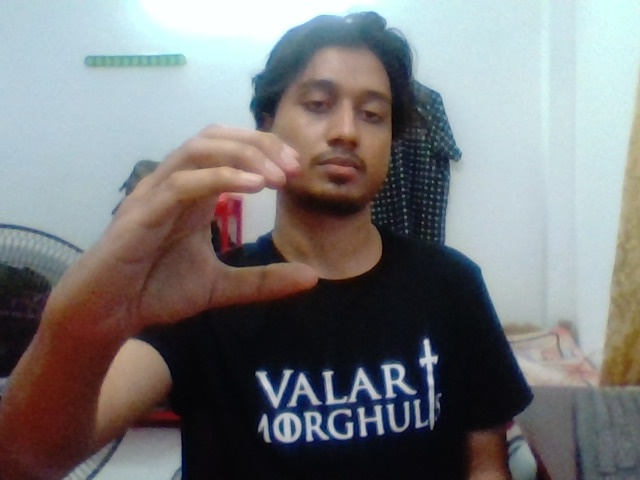C: (97, 112, 329, 323)
